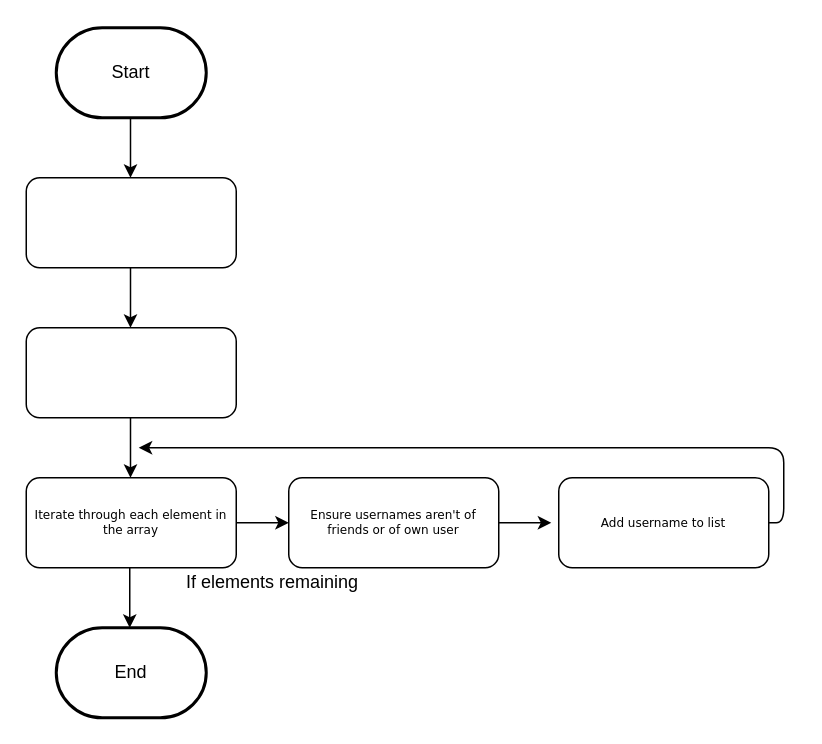
Image size: 822x744. Some labels were removed from this diagram. The shapes that lost their labels are listed below. From the top down, each one's box as (x1, y1, x2, y2) in pixels, then its label:
(25, 176, 236, 268): Get string from transmission, which will have read in the string from streamRead
(25, 326, 236, 418): Split string into array using comma delimiters
